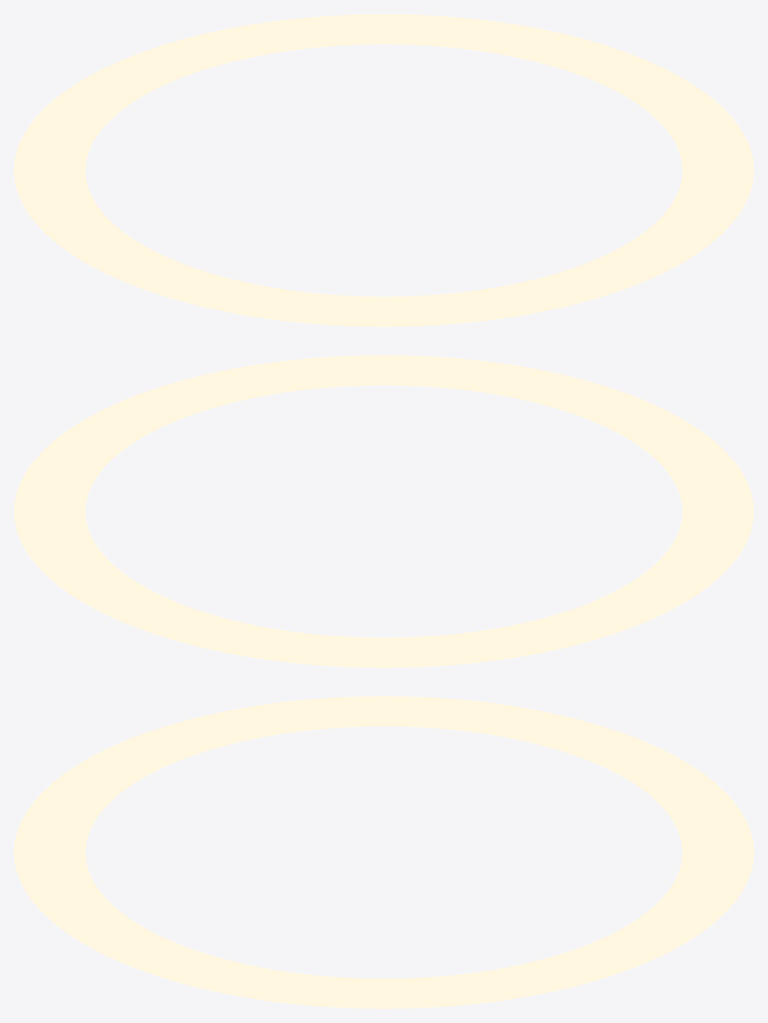
File: Belt_SoftAnnulus.fbx
The picture shows the model from 3 angles, top to bottom: view 1: azimuth 30°, elevation 25°; view 2: azimuth 150°, elevation 25°; view 3: azimuth 270°, elevation 25°; orthographic projection.
Parts seen in each view (by area): view 1: Belt_SoftAnnulus; view 2: Belt_SoftAnnulus; view 3: Belt_SoftAnnulus.
Part boxes in pixels (x1,y1,x2,y2): Belt_SoftAnnulus: (14,14,753,326); Belt_SoftAnnulus: (14,355,753,667); Belt_SoftAnnulus: (14,696,753,1008).
Size of the model in its own units: 248 by 4.04e-05 by 248.
